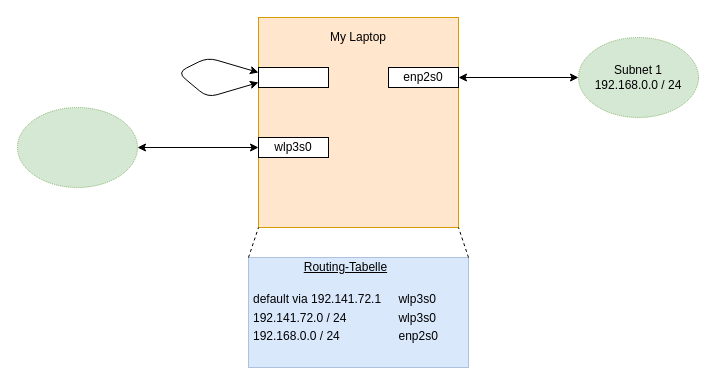
The diagram is 716 pixels wide and 385 high, and some of its shapes have lost their labels. Each missing label, with the centre of its shape:
"lo" goes at [293,77].
"Subnet 2 192.141.72.0 / 24" goes at [77,147].
